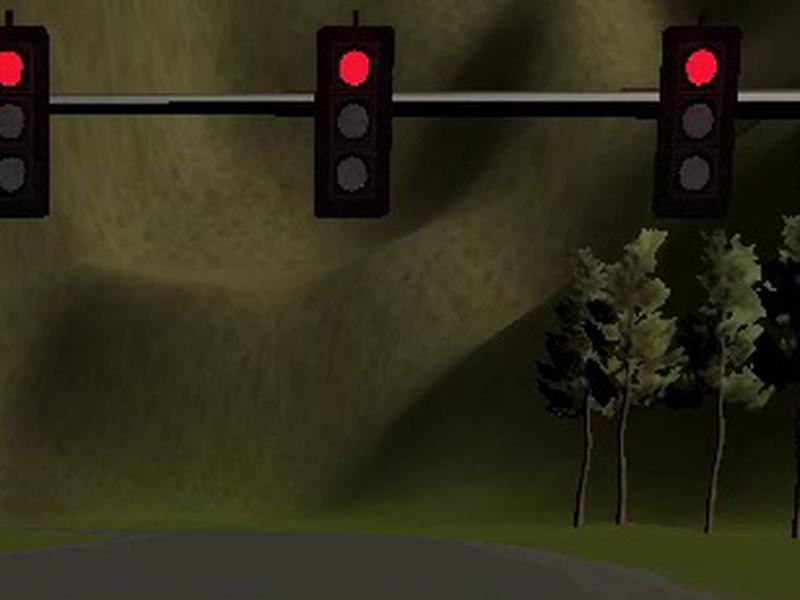Red: (654, 27, 741, 219), (313, 27, 394, 219), (1, 24, 50, 218)
